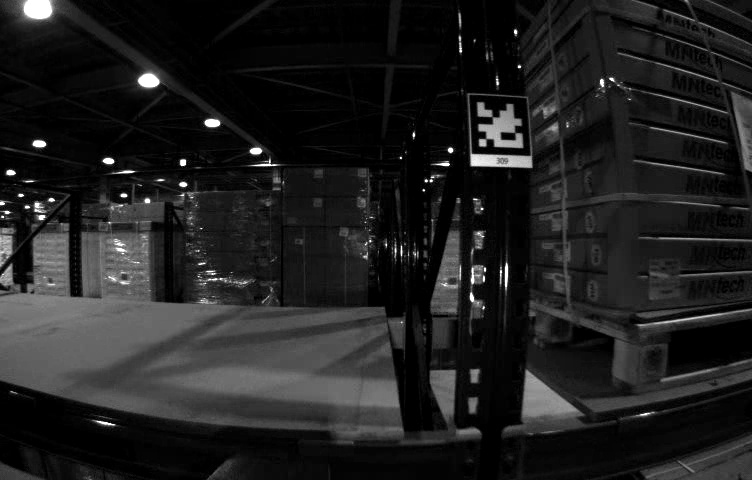True Barcode: (649, 257, 681, 299)
